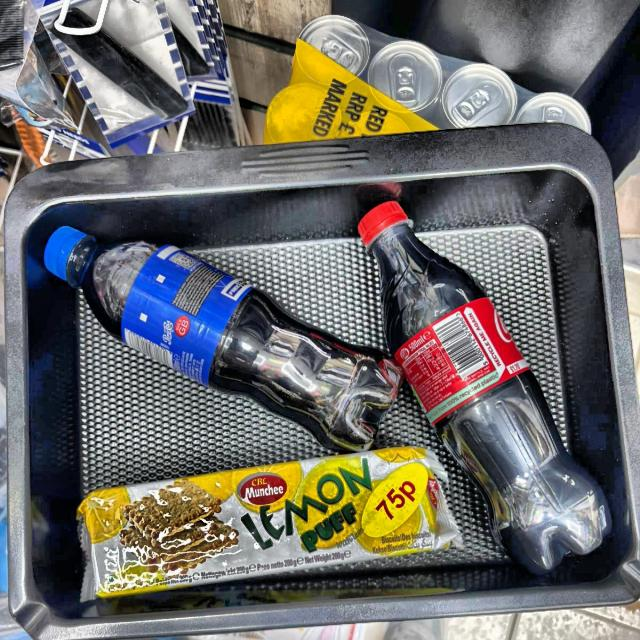coke-bottle: (361, 209, 606, 547)
lemon puff: (80, 461, 469, 596)
pepsi-bottle: (48, 226, 395, 450)
